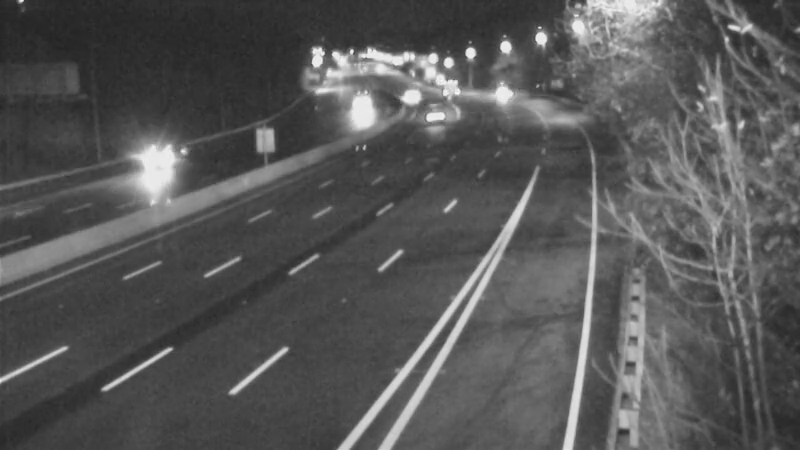vehicle: (112, 124, 192, 204), (474, 69, 524, 119), (418, 64, 468, 114), (381, 69, 431, 119), (411, 93, 461, 143), (338, 82, 388, 132)
